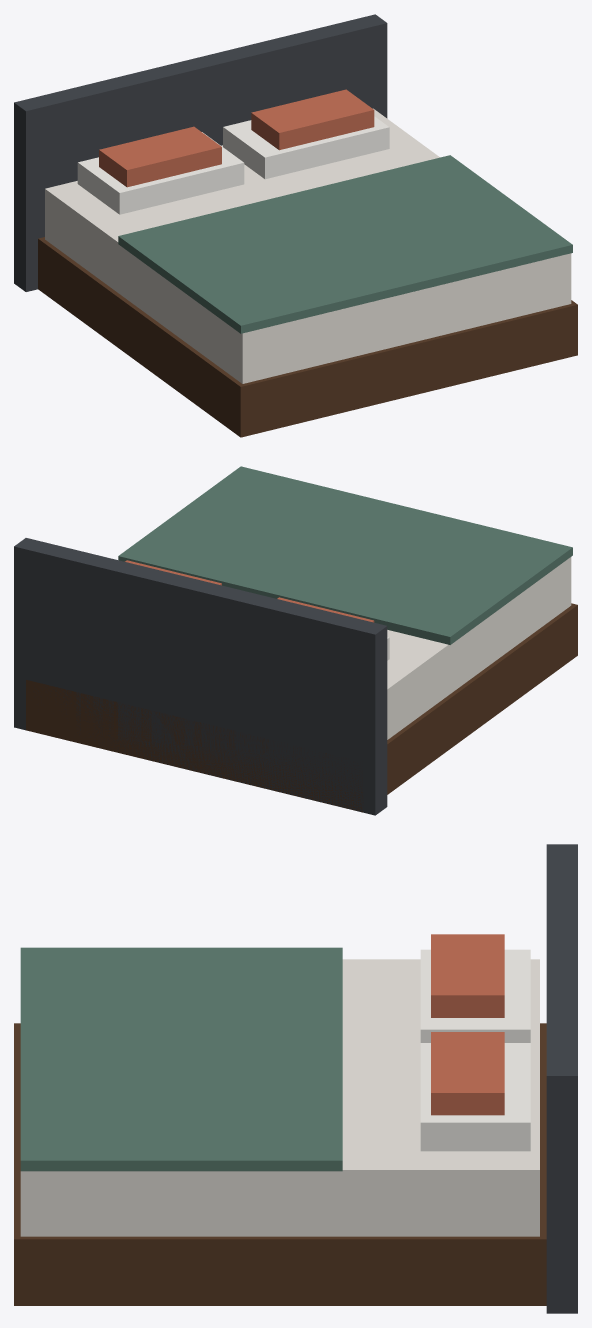
File: bed_king.glb
The picture shows the model from 3 angles, top to bottom: view 1: azimuth 30°, elevation 25°; view 2: azimuth 150°, elevation 25°; view 3: azimuth 270°, elevation 25°; orthographic projection. The views are drawn at different scales.
Size of the model in its own units: 2.09 by 1 by 2.15.
